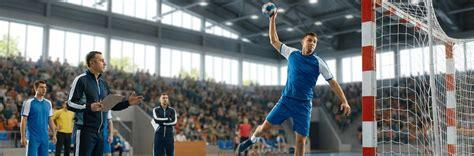ballon_handball: (261, 1, 278, 19)
